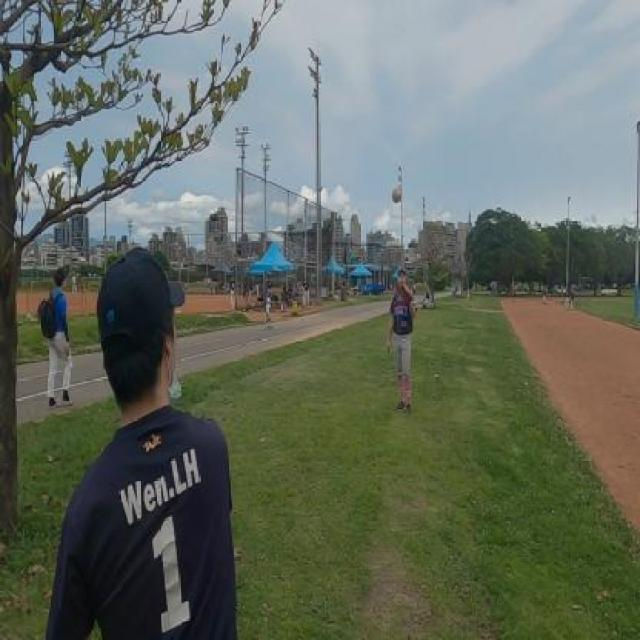baseball: (392, 188, 400, 203)
